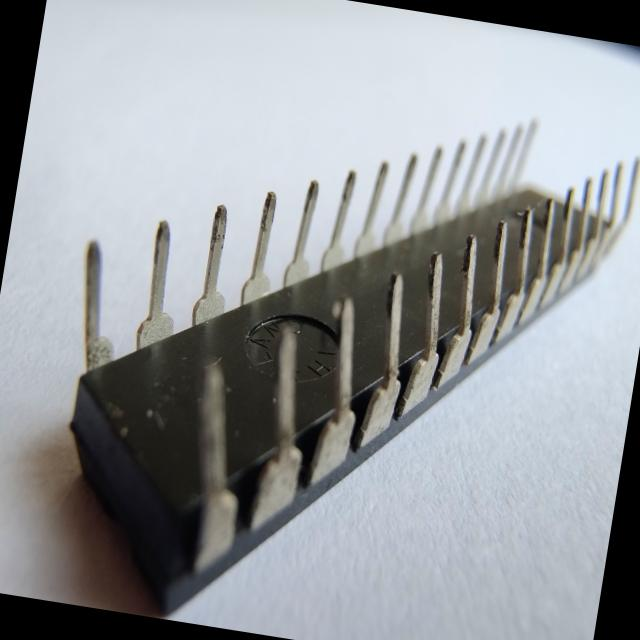atmega: (29, 51, 640, 640)
